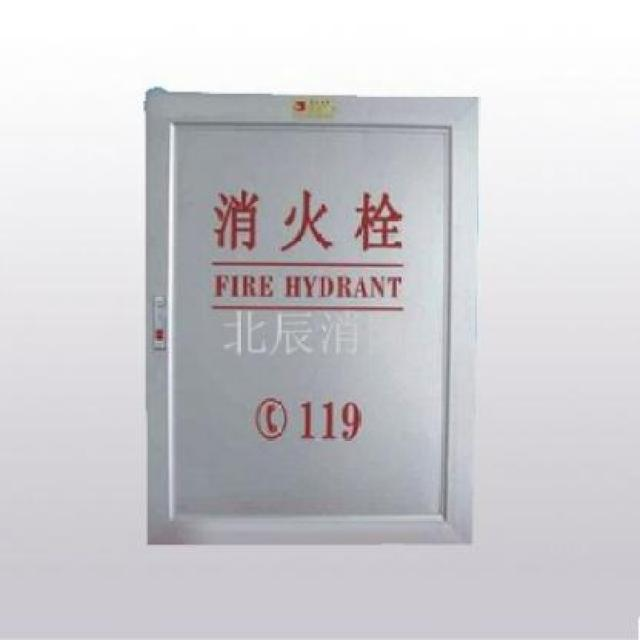firehydrant: (135, 81, 484, 552)
